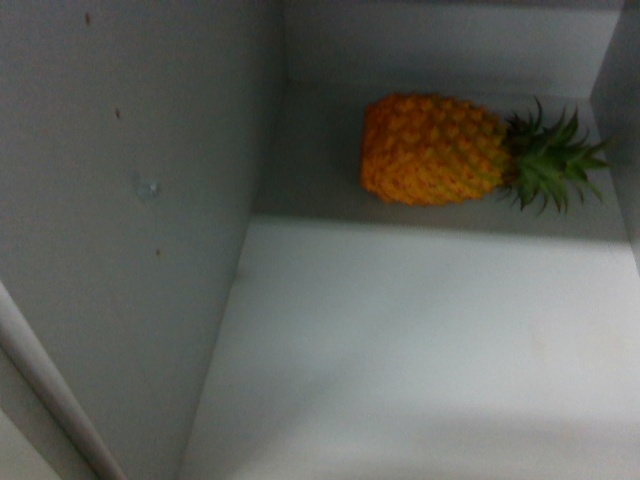pineapple: (359, 87, 616, 218)
